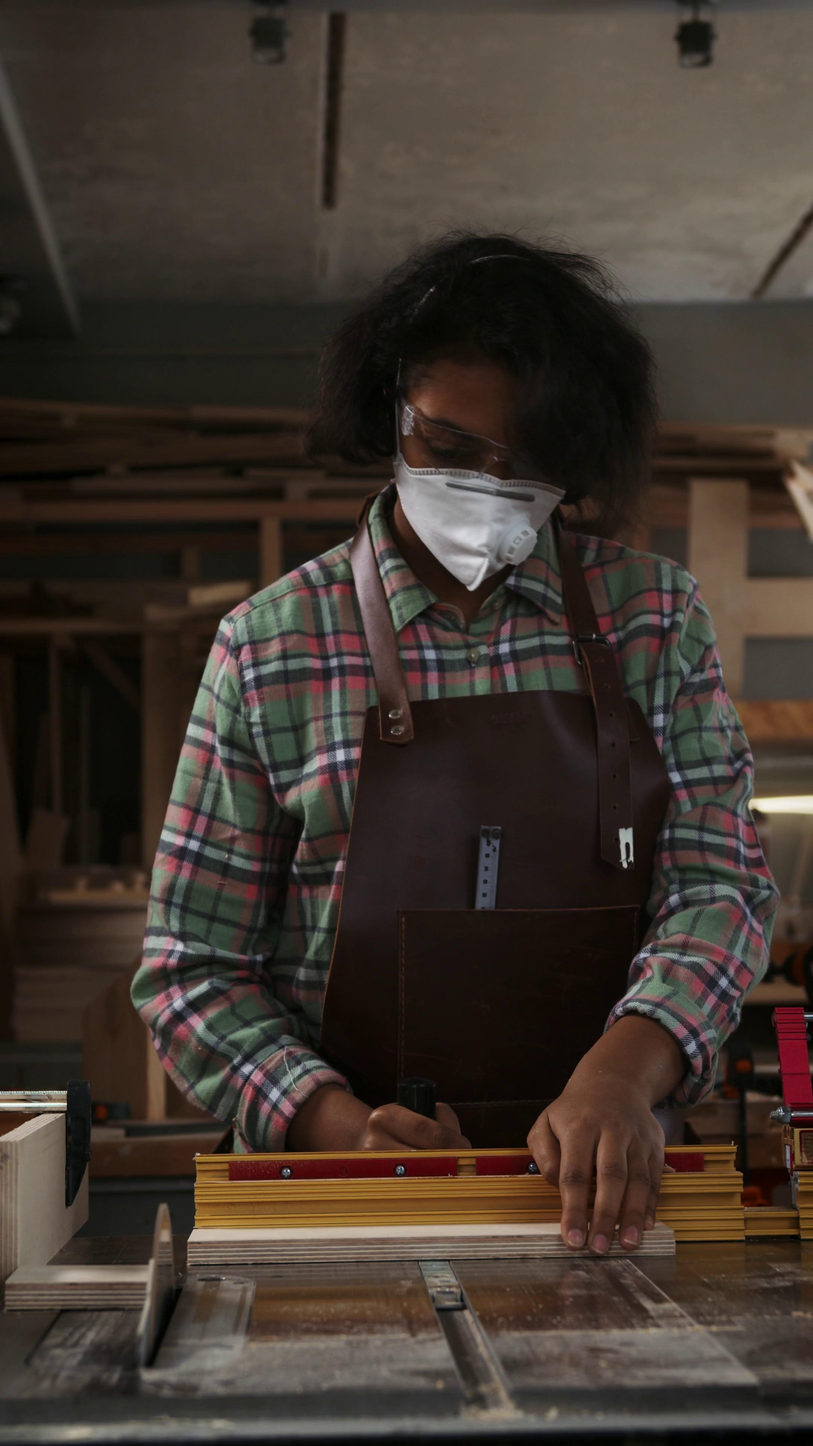mask: (392, 450, 566, 592)
person: (128, 228, 778, 1255)
